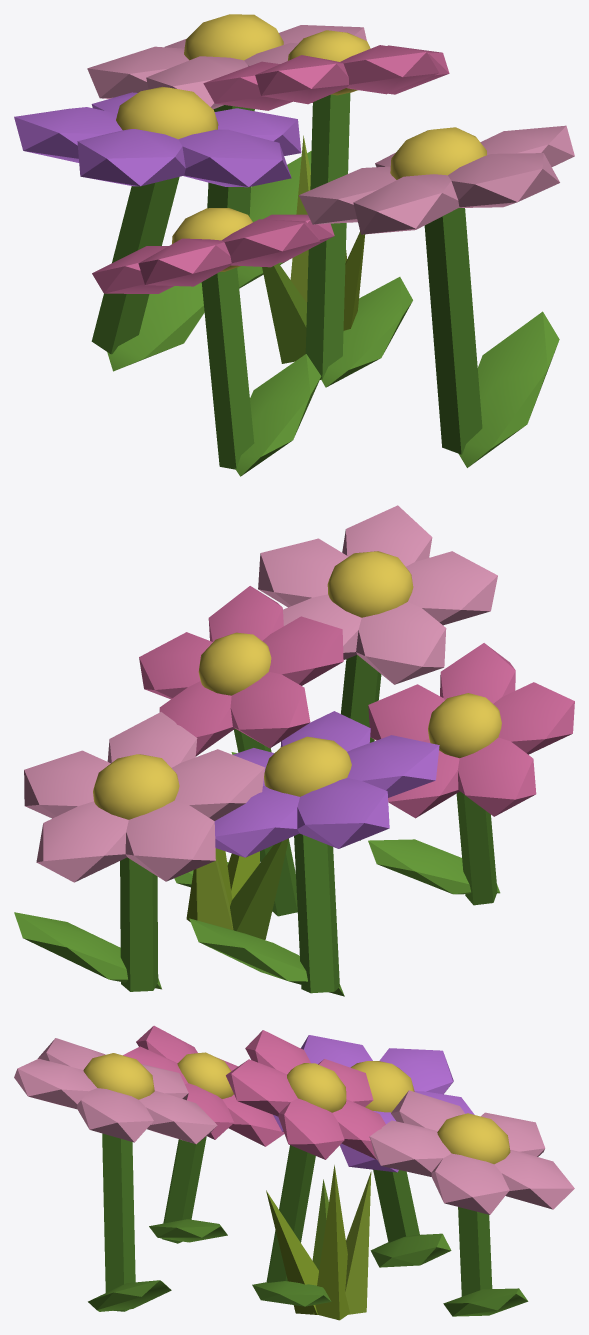
The model's file is p_flowers_2.glb.
3 renders of one model, top to bottom at view 1: azimuth 30°, elevation 25°; view 2: azimuth 150°, elevation 25°; view 3: azimuth 270°, elevation 25°, orthographic. The views are drawn at different scales.
Parts seen in each view (by area): view 1: body; view 2: body; view 3: body.
Boxes of the visible parts, <box> form: body: <box>14,14,574,476</box>; body: <box>14,505,574,996</box>; body: <box>14,1025,574,1320</box>.
Bounding box in the file's own units: 0.6827 × 0.5292 × 1.04.
